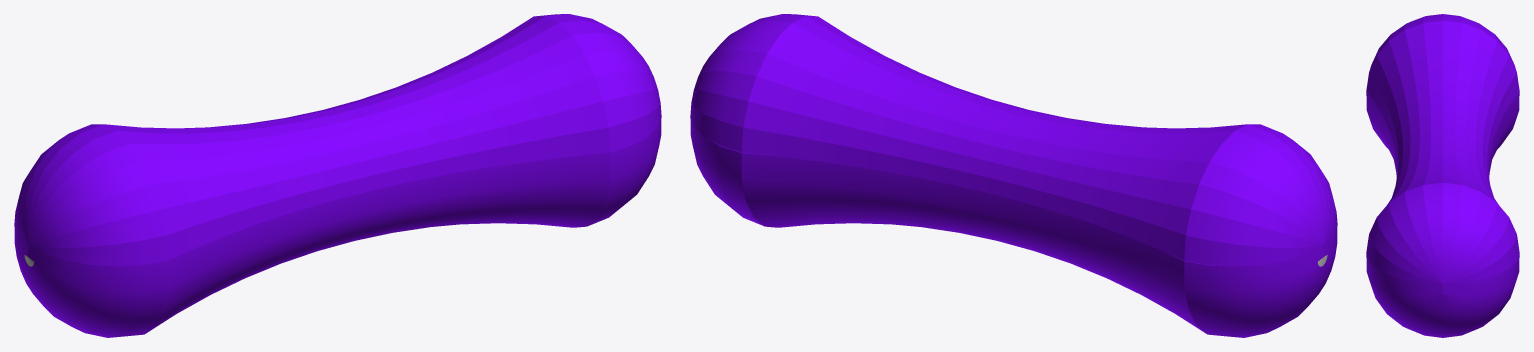
The model's file is Pi_1-entero.glb.
The picture shows the model from 3 angles, left to right: view 1: azimuth 30°, elevation 25°; view 2: azimuth 150°, elevation 25°; view 3: azimuth 270°, elevation 25°; orthographic projection. The views are drawn at different scales.
Visible parts, largest first — view 1: root; view 2: root; view 3: root.
Part boxes in pixels (bbox=[...]): root: bbox=[14, 14, 661, 337]; root: bbox=[690, 14, 1337, 337]; root: bbox=[1366, 14, 1519, 337].
Bounding box in the file's own units: 0.07 × 0.0214 × 0.02.
